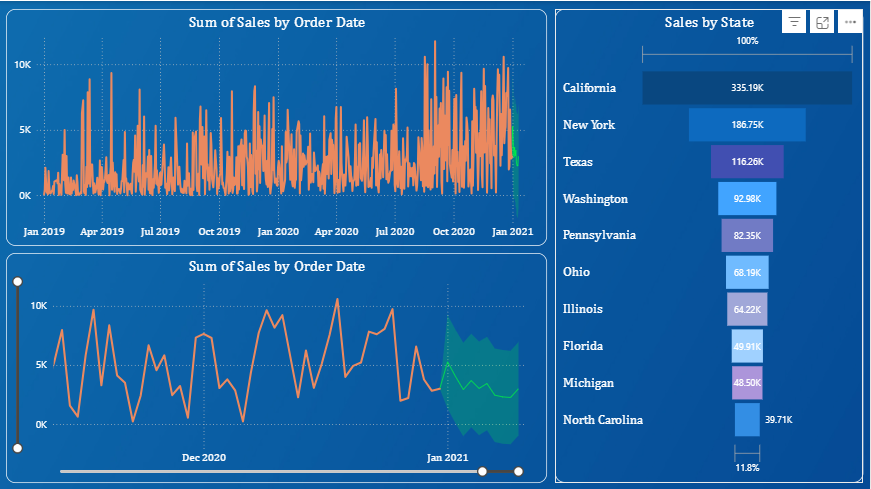

The page's visual inventory and layout, read from the dashboard file:
{"tool":"powerbi","page":{"name":"Page 2","canvas":[1280,720],"ordinal":1},"visuals":[{"type":"funnel","title":"Sales by State","fields":{"Category":["SuperStore_Sales_Dataset.State"],"Y":["Sum(SuperStore_Sales_Dataset.Sales)"]},"box":[818.4,11.8,452.6,696.5],"z":0},{"type":"lineChart","fields":{"Y":["Sum(SuperStore_Sales_Dataset.Sales)"],"Category":["SuperStore_Sales_Dataset.Order Date"]},"box":[11.8,11.8,794.9,348.2],"z":1000},{"type":"lineChart","fields":{"Y":["Sum(SuperStore_Sales_Dataset.Sales)"],"Category":["SuperStore_Sales_Dataset.Order Date"]},"box":[11.8,370.3,794.9,338],"z":2000}]}

Visuals, with their boxes in screenshot pixels (x1, y1, x2, y2), scaled from the page's 1280x720 canvas onto the 871x489 screenshot:
"Sales by State" funnel: region(557, 8, 865, 481)
lineChart - Sum(SuperStore_Sales_Dataset.Sales) x SuperStore_Sales_Dataset.Order Date: region(8, 8, 549, 244)
lineChart - Sum(SuperStore_Sales_Dataset.Sales) x SuperStore_Sales_Dataset.Order Date: region(8, 251, 549, 481)
